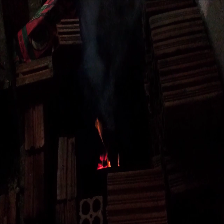fire_l: (97, 154, 111, 169), (95, 118, 103, 139), (117, 155, 120, 166)
